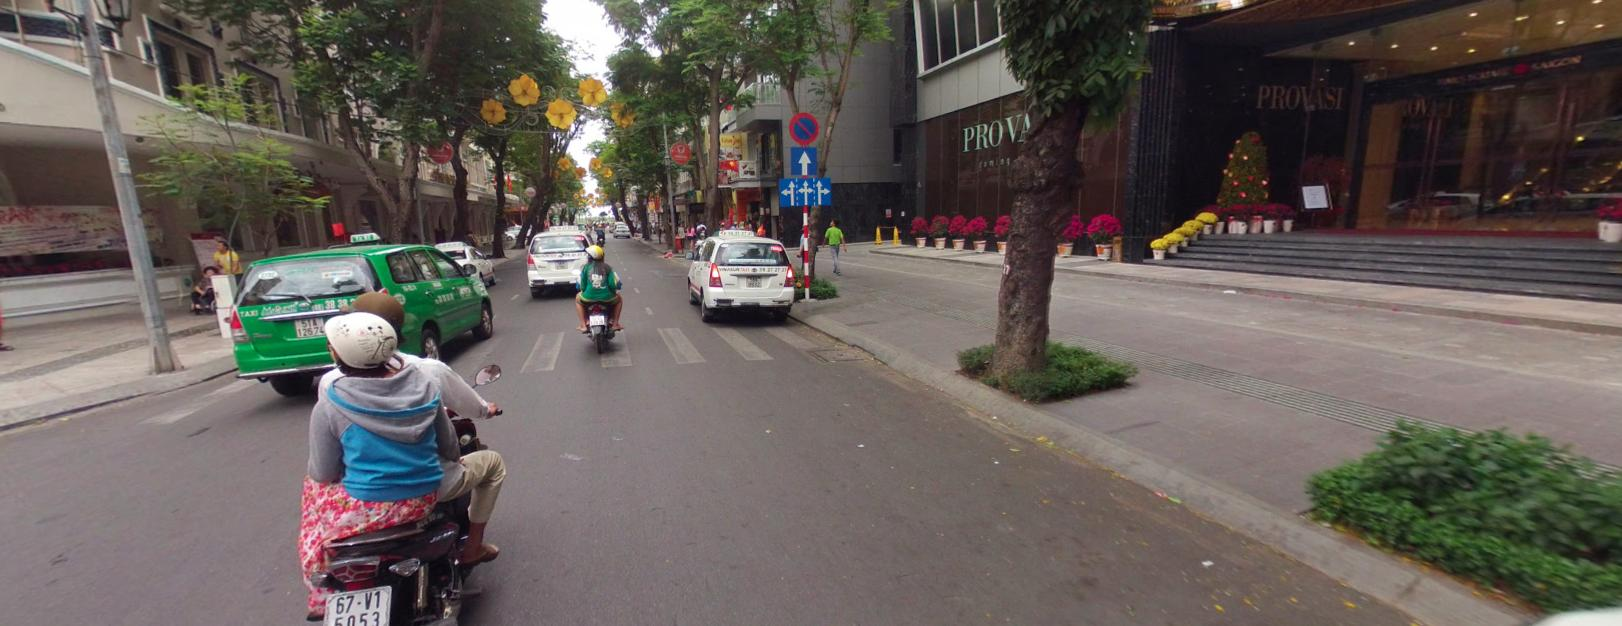Cam dung va do: (788, 111, 817, 142)
